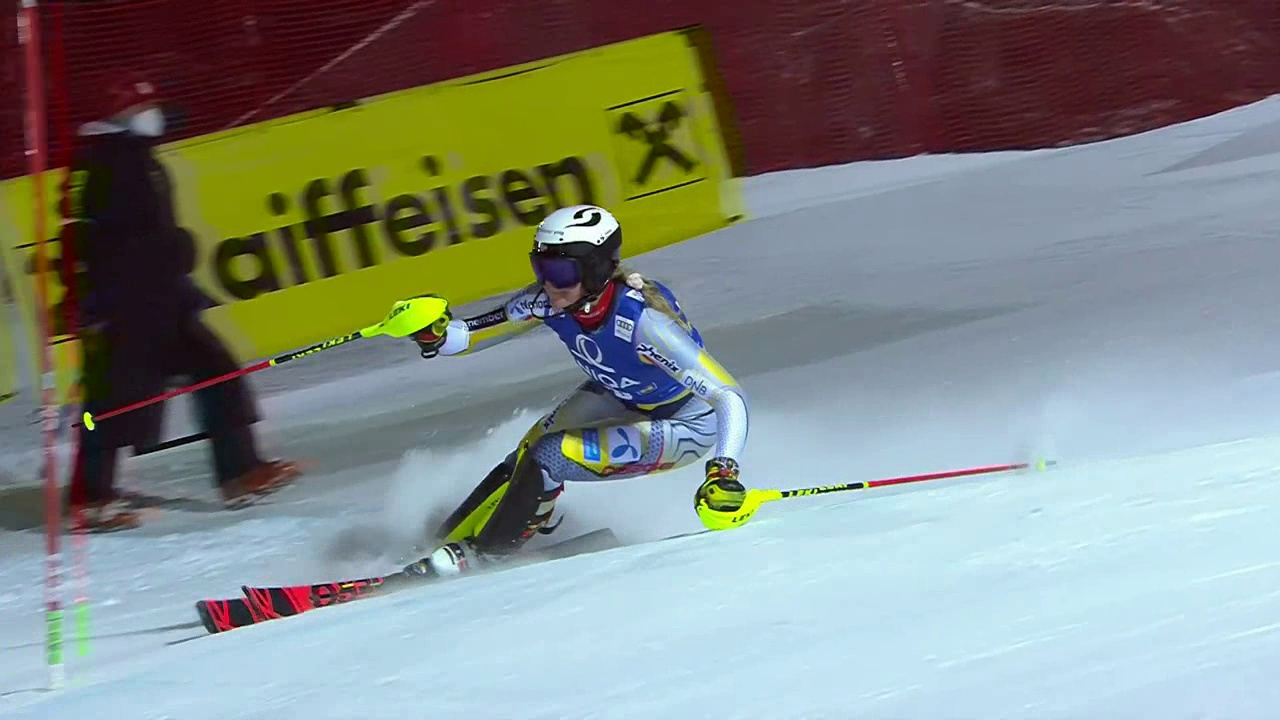raiffeisen: (196, 136, 656, 284), (611, 92, 709, 199)
